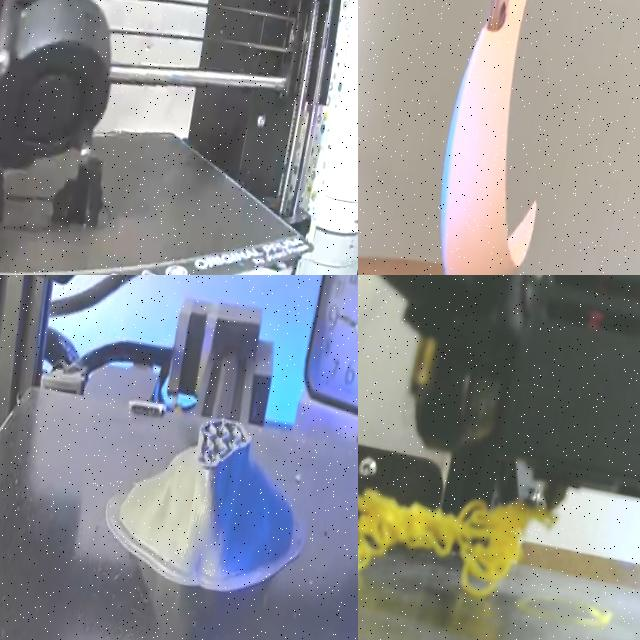spaghetti: (358, 491, 555, 597)
